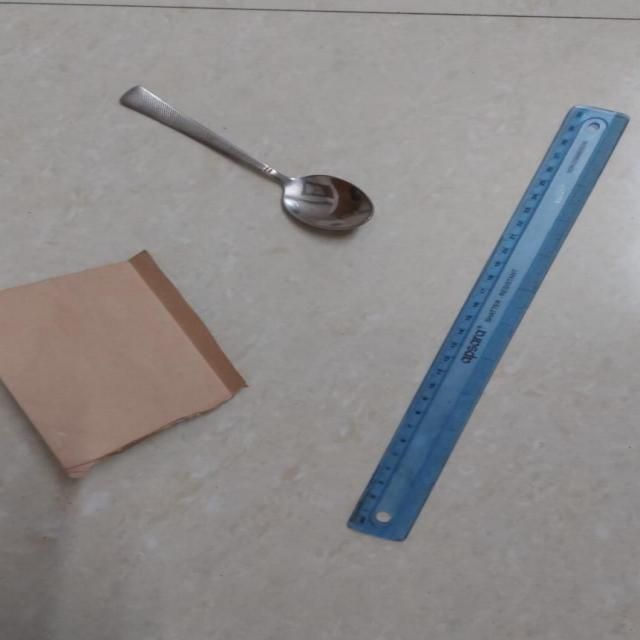dry: (345, 104, 632, 555), (0, 246, 250, 485), (113, 68, 380, 240)
